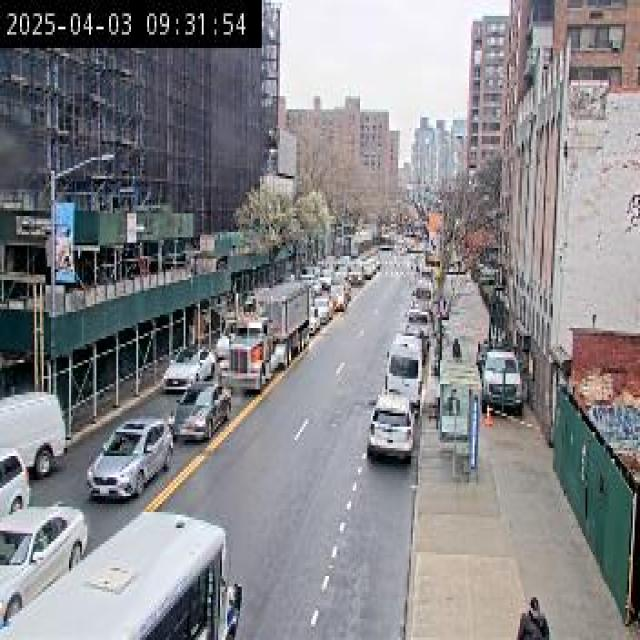open parking: (359, 446, 421, 632)
parkedCars: (354, 268, 446, 468)
